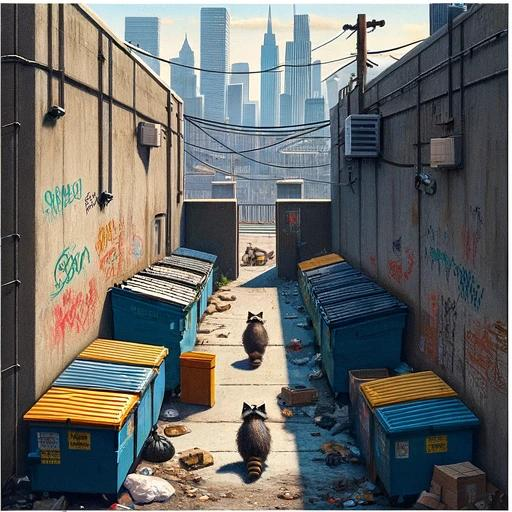raccoon: (231, 397, 277, 487), (236, 305, 274, 372)
